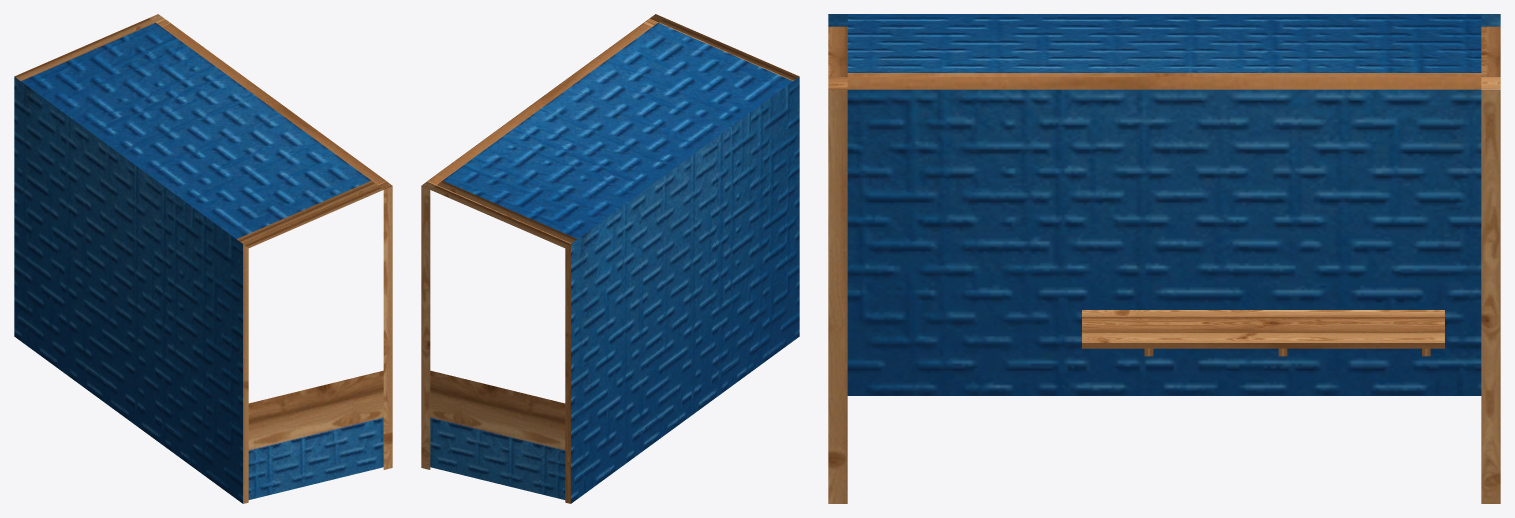
The model's file is BussSkur.glb.
3 renders of one model, left to right at view 1: azimuth 30°, elevation 25°; view 2: azimuth 150°, elevation 25°; view 3: azimuth 270°, elevation 25°, orthographic. The views are drawn at different scales.
Parts seen in each view (by area): view 1: BussSkur; view 2: BussSkur; view 3: BussSkur.
Part boxes in pixels (left/top/right/bottom): BussSkur: left=14, top=14, right=392, bottom=503; BussSkur: left=421, top=14, right=799, bottom=503; BussSkur: left=828, top=14, right=1500, bottom=503.
Bounding box in the file's own units: 3.76 × 6.9 × 9.95.
1 material, 1 textured.
